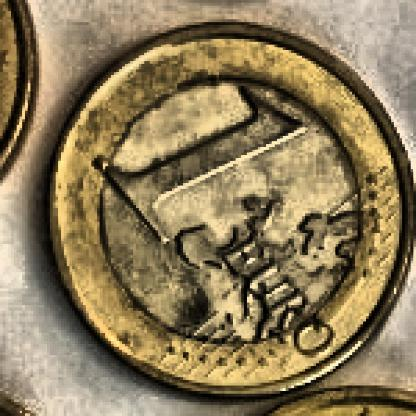coin: (42, 21, 415, 400)
